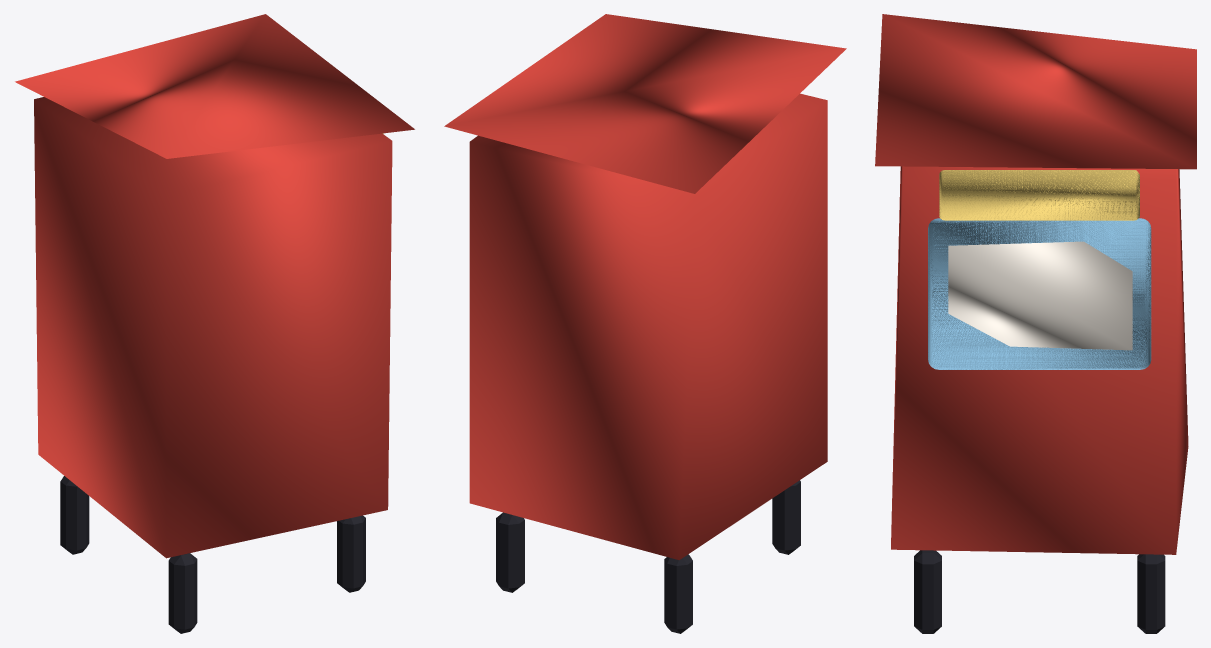
File: newsbox.glb
3 renders of one model, left to right at view 1: azimuth 30°, elevation 25°; view 2: azimuth 150°, elevation 25°; view 3: azimuth 270°, elevation 25°, orthographic. The views are drawn at different scales.
Parts seen in each view (by area): view 1: newsbox; view 2: newsbox; view 3: newsbox.
Boxes of the visible parts, x1,y1,x2,y2 form: newsbox: [15, 14, 414, 633]; newsbox: [444, 14, 846, 633]; newsbox: [875, 14, 1196, 633].
Bounding box in the file's own units: 0.5368 × 1.01 × 0.5767.
1 material, 1 textured.
